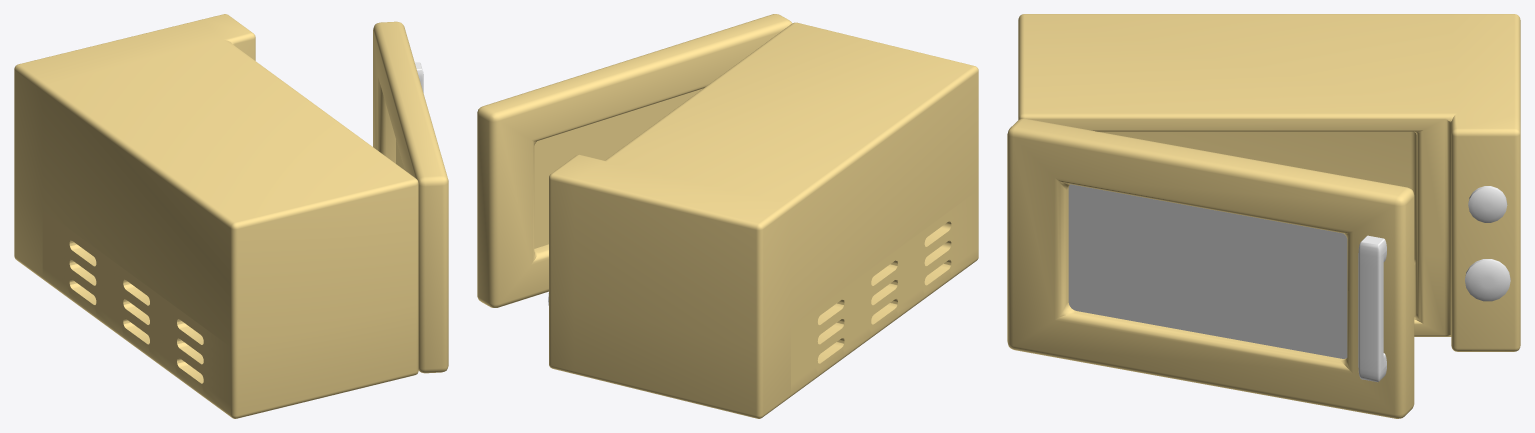
File: mikrofalapoprawka.fbx
3 renders of one model, left to right at view 1: azimuth 30°, elevation 25°; view 2: azimuth 150°, elevation 25°; view 3: azimuth 270°, elevation 25°, orthographic. The views are drawn at different scales.
Parts seen in each view (by area): view 1: Cube, Cube.032; view 2: Cube, Cube.032, Cube.002; view 3: Cube, Cube.032, Cube.031, Cube.033, Cylinder.001, Cylinder.
Part boxes in pixels (x1,y1,x2,y2): Cube: [14, 14, 418, 418]; Cube.032: [373, 21, 448, 373]; Cube: [549, 22, 978, 418]; Cube.032: [477, 14, 792, 307]; Cube.002: [534, 88, 702, 248]; Cube: [1018, 14, 1520, 351]; Cube.032: [1007, 118, 1414, 418]; Cube.031: [1068, 184, 1347, 358]; Cube.033: [1358, 235, 1386, 382]; Cylinder.001: [1465, 259, 1510, 301]; Cylinder: [1468, 186, 1507, 222].
Size of the model in its own units: 370 by 200 by 417.
